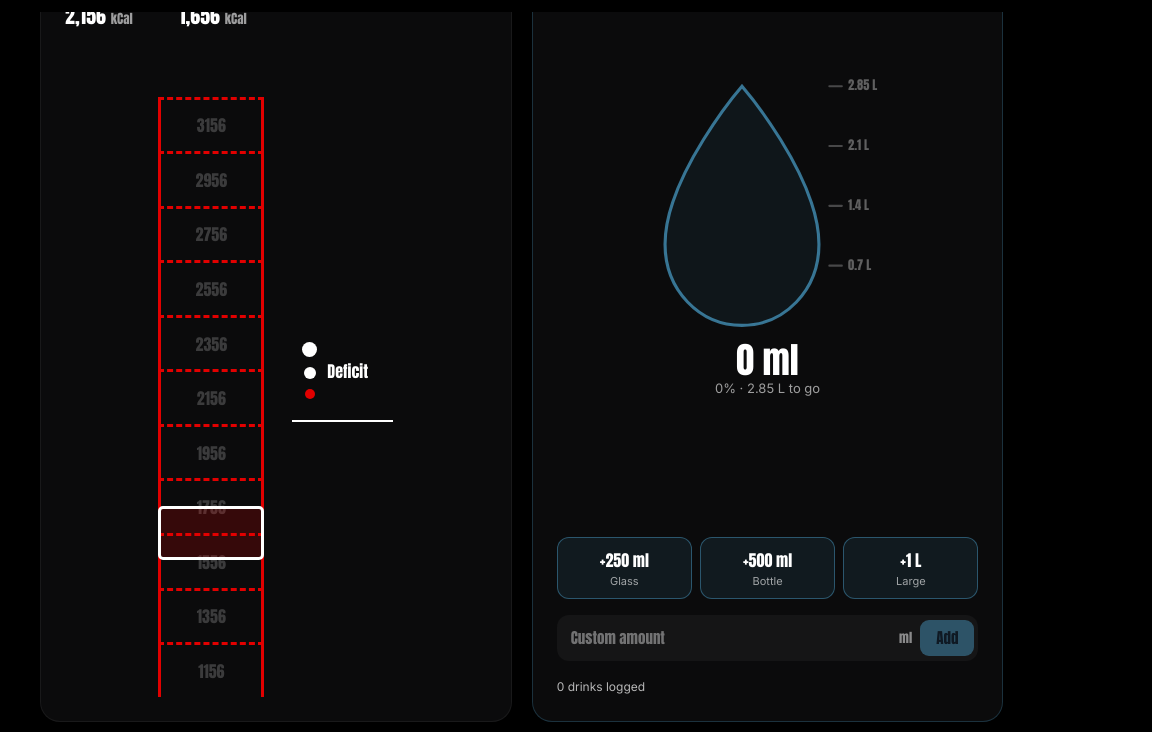
Test case: diet page summary › starts from the saved goal and saves each change to it
(page scrolled)
expect the text "1,656" is shown: met, box 179,12 -> 220,31
Click the button with aria-label "Calorie goal: Deficit. Click to change".
click(343, 372)  # box 292,322 -> 393,422
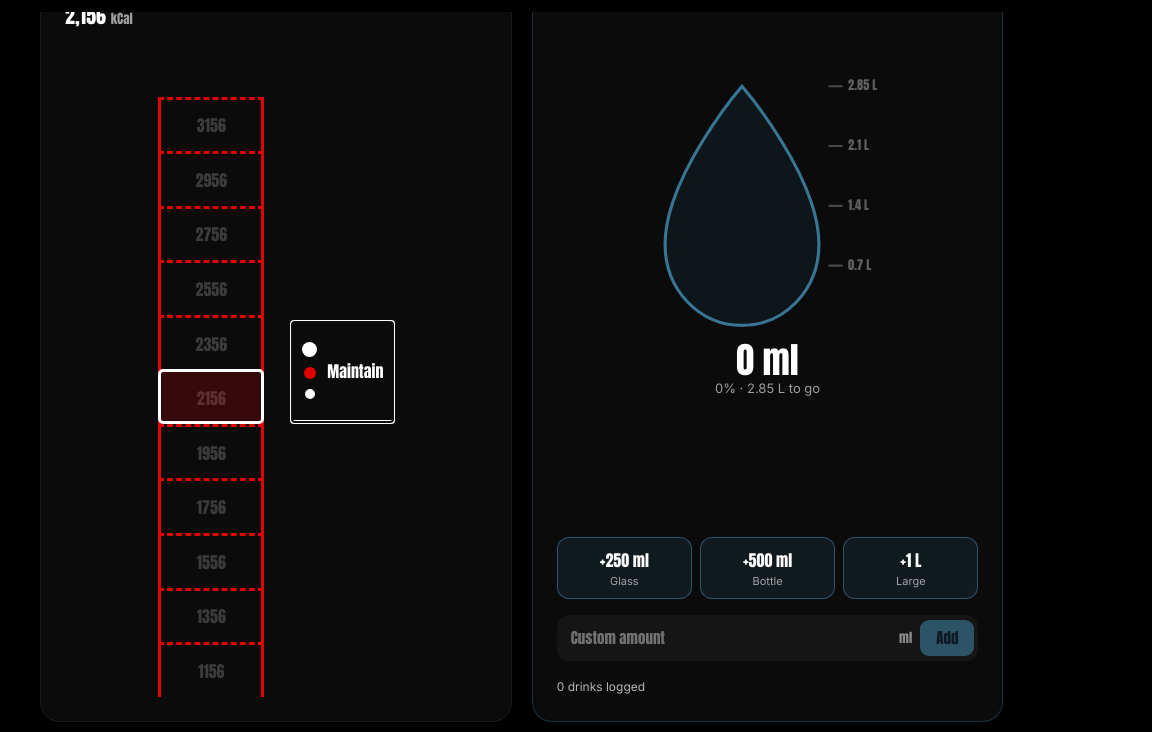
Click the button with aria-label "Calorie goal: Maintain. Click to change".
click(343, 372)  # box 292,322 -> 393,422
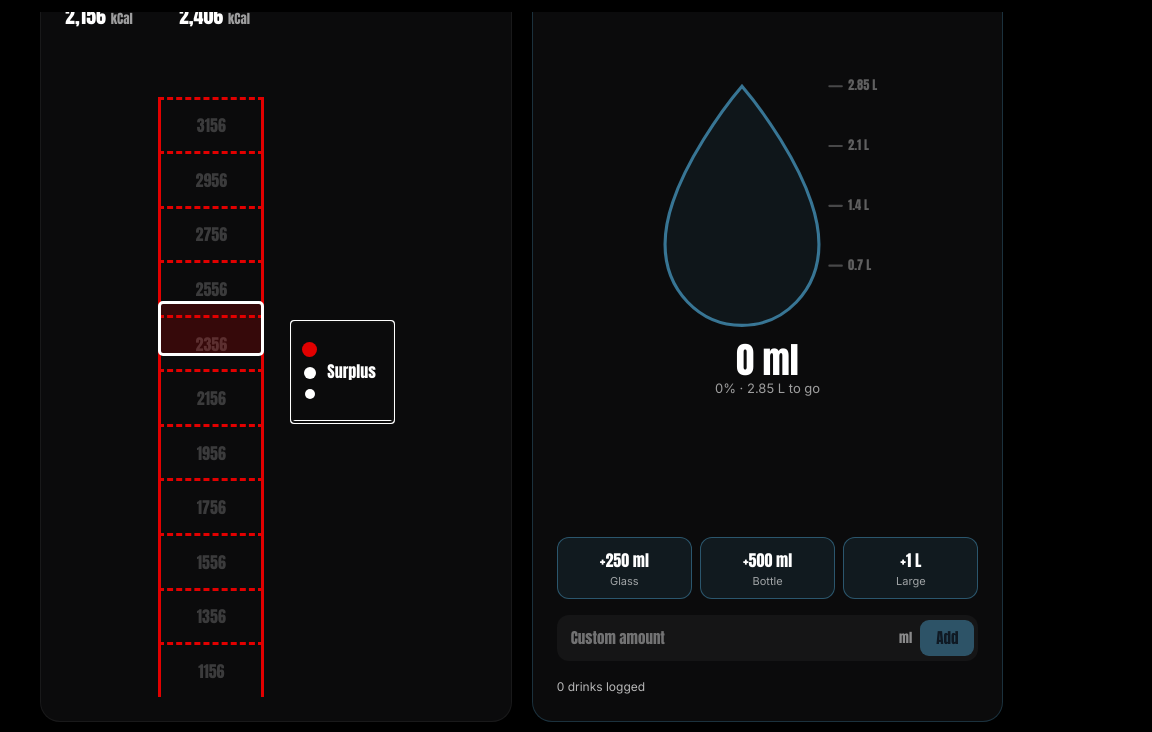
Click the button with aria-label "Calorie goal: Surplus. Click to change".
click(343, 372)  # box 292,322 -> 393,422
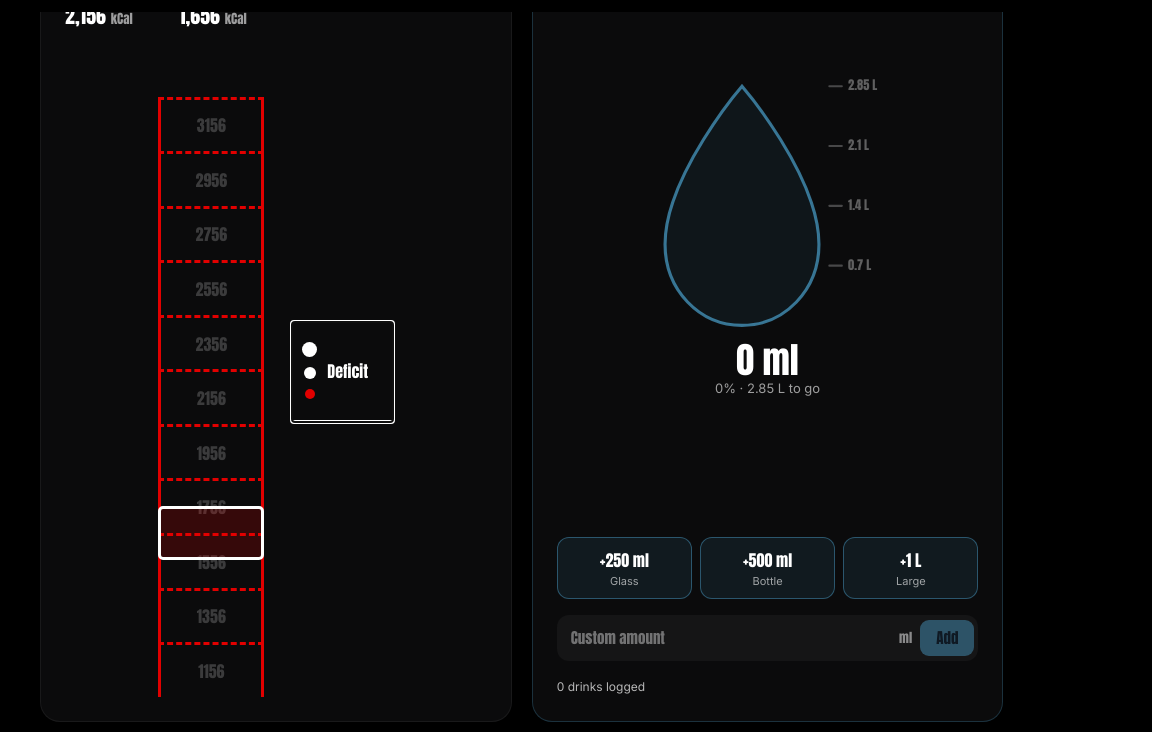
expect the button with aria-label "Calorie goal: Deficit. Click to change" is shown: met, box 292,322 -> 393,422
